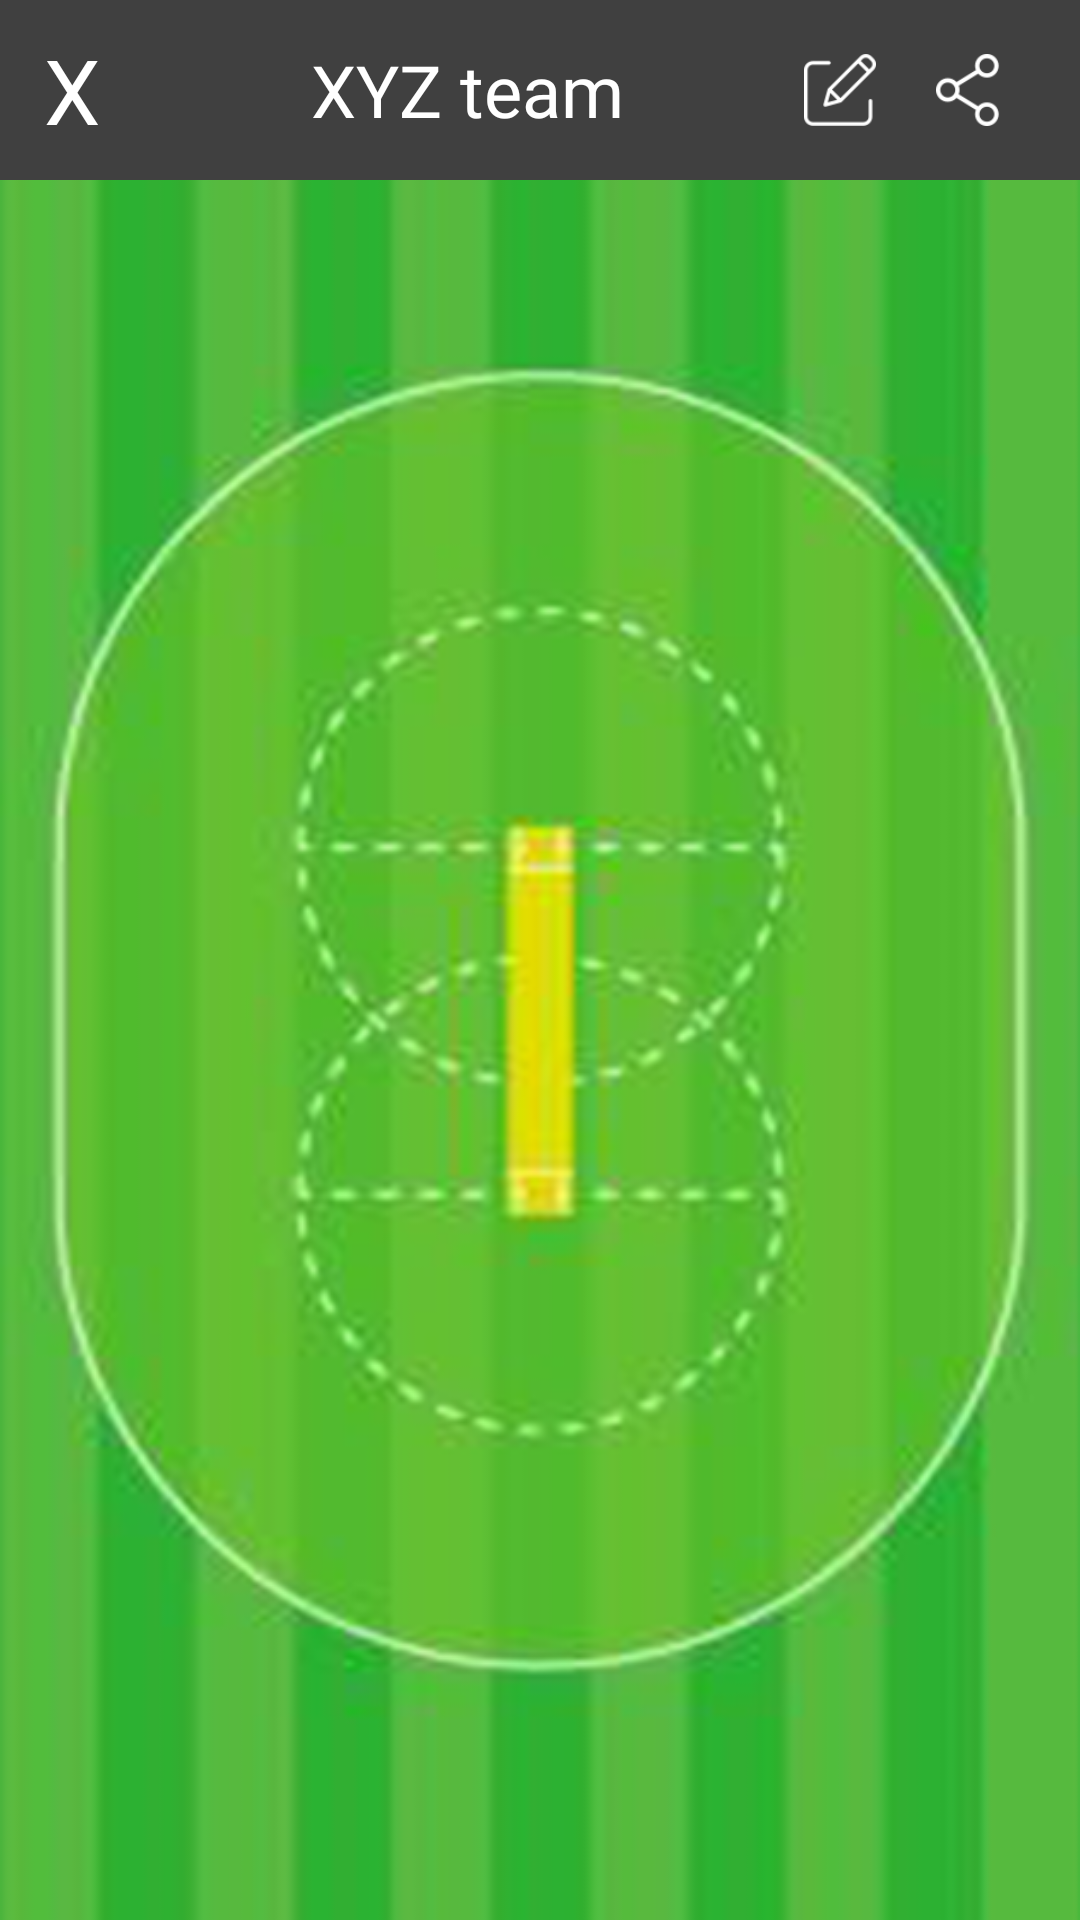

Point at icon controls on the screen. Image size 1080x1920, points as [x,y].
edit: [840,90]
share: [967,90]
